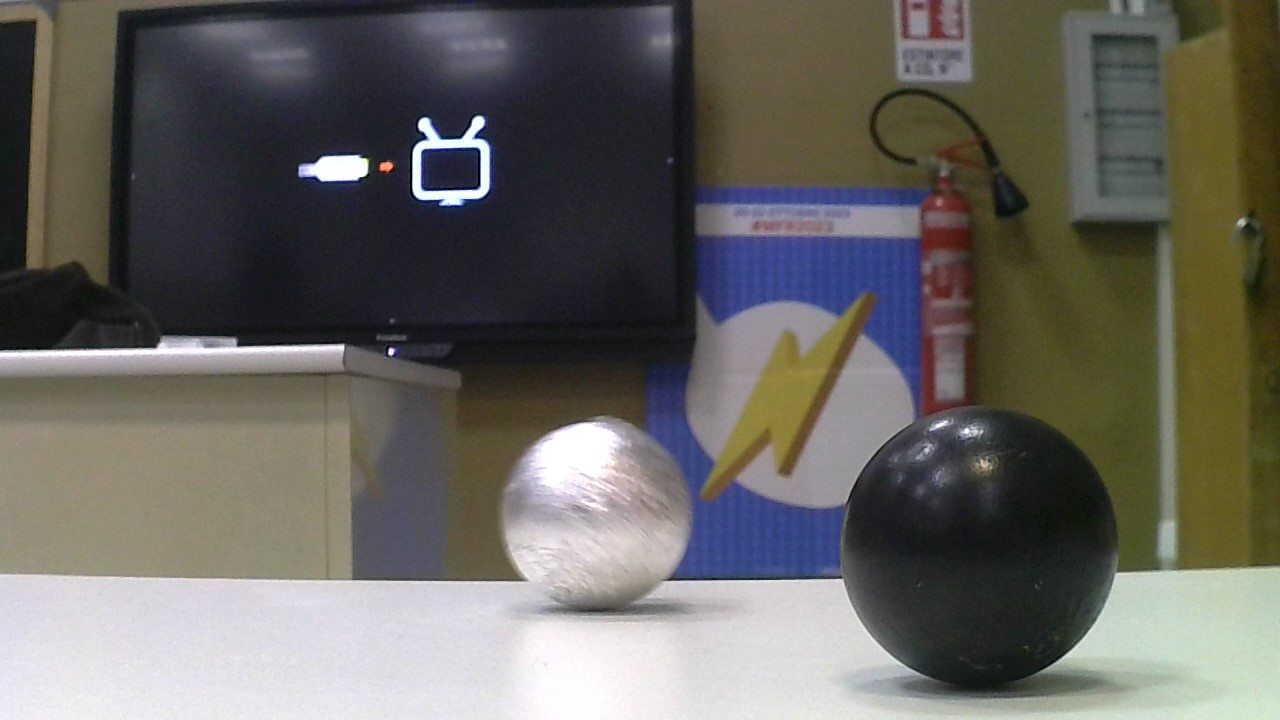black_ball: (839, 403, 1128, 688)
silver_ball: (493, 413, 698, 615)
